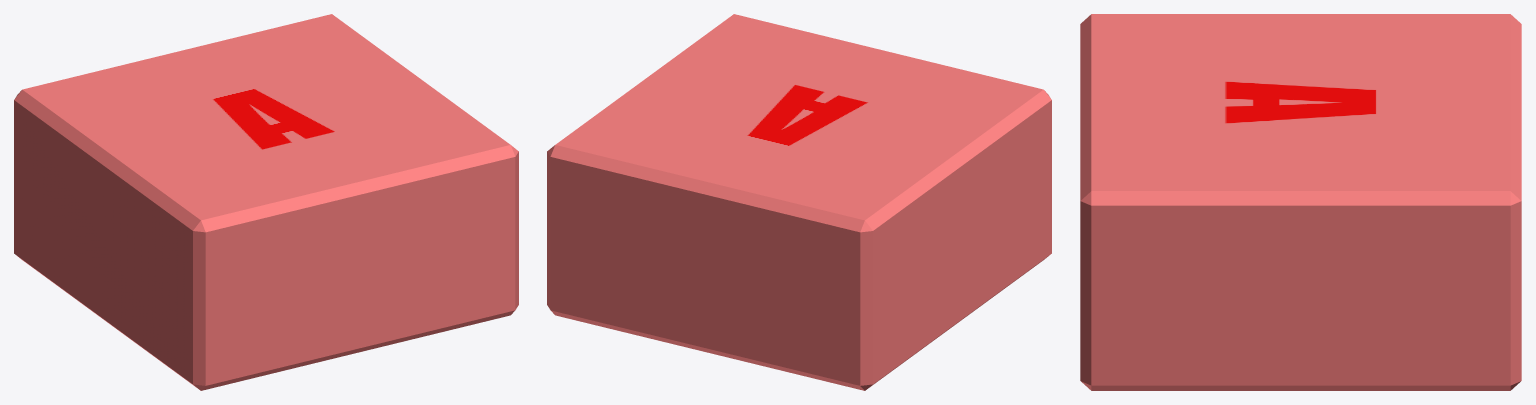
3 renders of one model, left to right at view 1: azimuth 30°, elevation 25°; view 2: azimuth 150°, elevation 25°; view 3: azimuth 270°, elevation 25°, orthographic. The views are drawn at different scales.
Visible parts, largest first — view 1: testTile_1_red; view 2: testTile_1_red; view 3: testTile_1_red.
Boxes of the visible parts, x1=… form: testTile_1_red: x1=14, y1=14, x2=518, y2=390; testTile_1_red: x1=547, y1=14, x2=1051, y2=390; testTile_1_red: x1=1080, y1=14, x2=1521, y2=390.
Size of the model in its own units: 1 by 0.5 by 1.
Materials: 1 (1 with a texture image).
